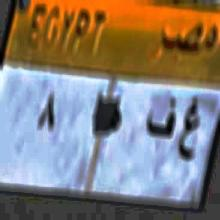8: (37, 85, 57, 140)
faa: (146, 95, 176, 139)
ghayn: (178, 94, 199, 164)
haa: (106, 102, 124, 140)
